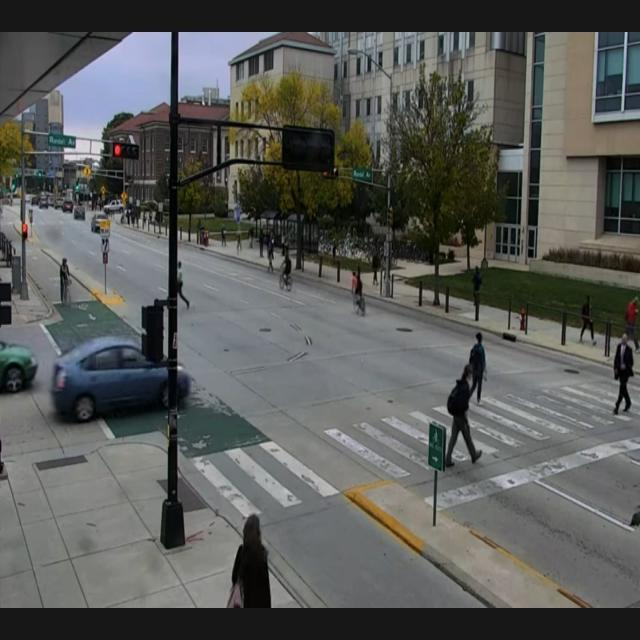Walking: (182, 477, 302, 612), (46, 237, 84, 324), (568, 270, 598, 370), (267, 236, 304, 309), (342, 254, 376, 324)
crossing: (429, 376, 483, 475), (593, 322, 640, 435), (462, 309, 507, 400), (163, 244, 193, 317)
